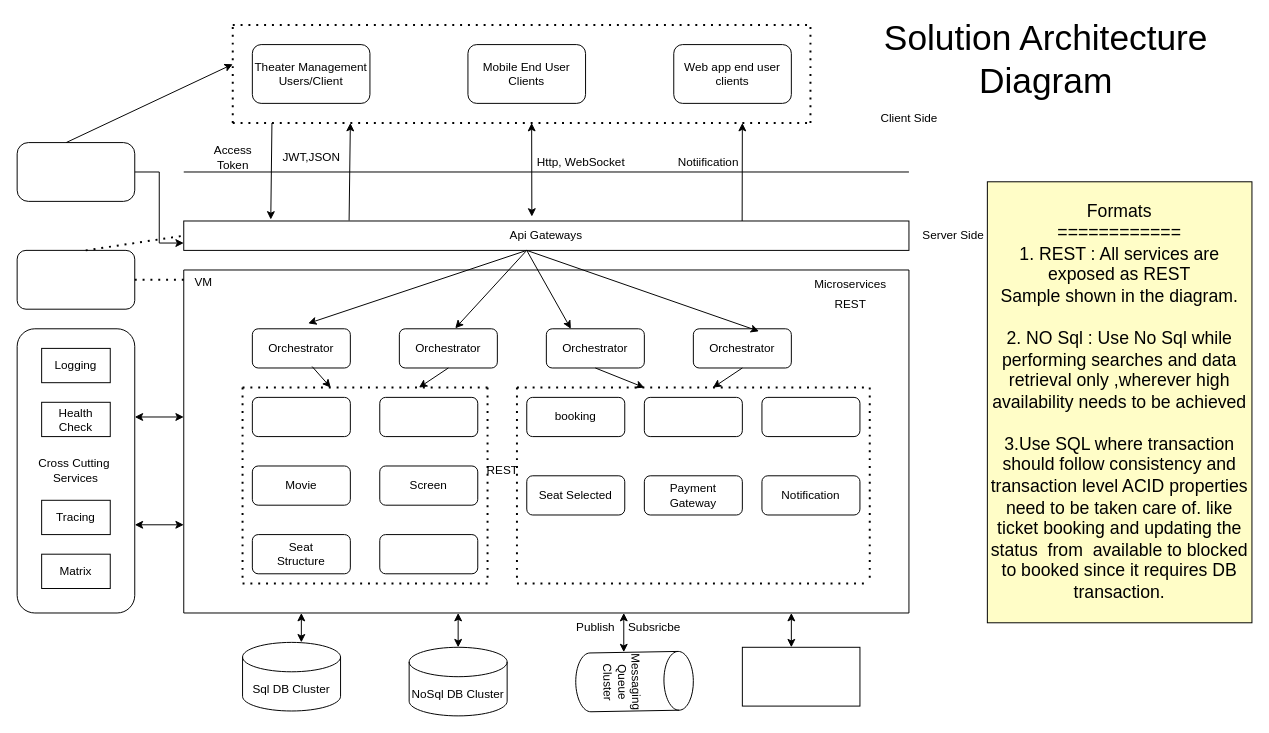
Some shapes in this 1269 by 733 pixel diagram are drawn without their labels. The centre of each missing label's shape, as x and y in pixels:
customer: the point at 692,416
Elastic Search Engine: the point at 800,676
Location: the point at 428,416
Reservation Status: the point at 428,554
search: the point at 810,416
Security and Access Management: the point at 75,171
Service Registry: the point at 75,279
Theater: the point at 300,416
